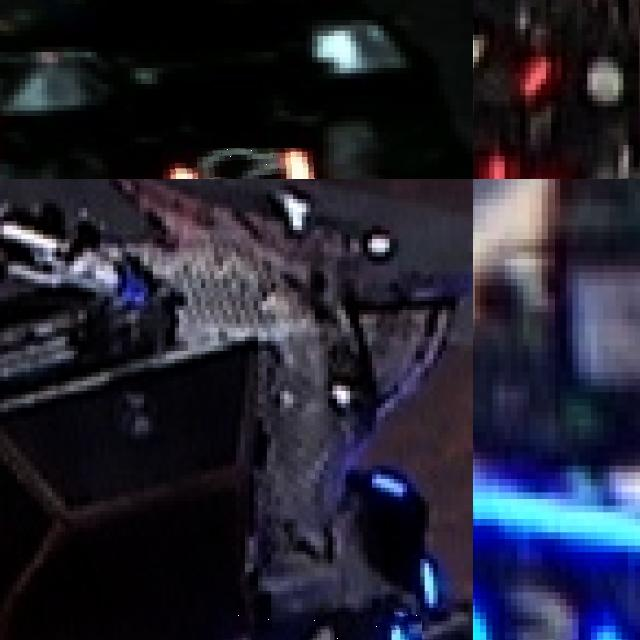B1: (220, 614, 422, 640)
B3: (473, 578, 640, 640)
R1: (473, 1, 564, 112)
Rs: (162, 147, 317, 179)
